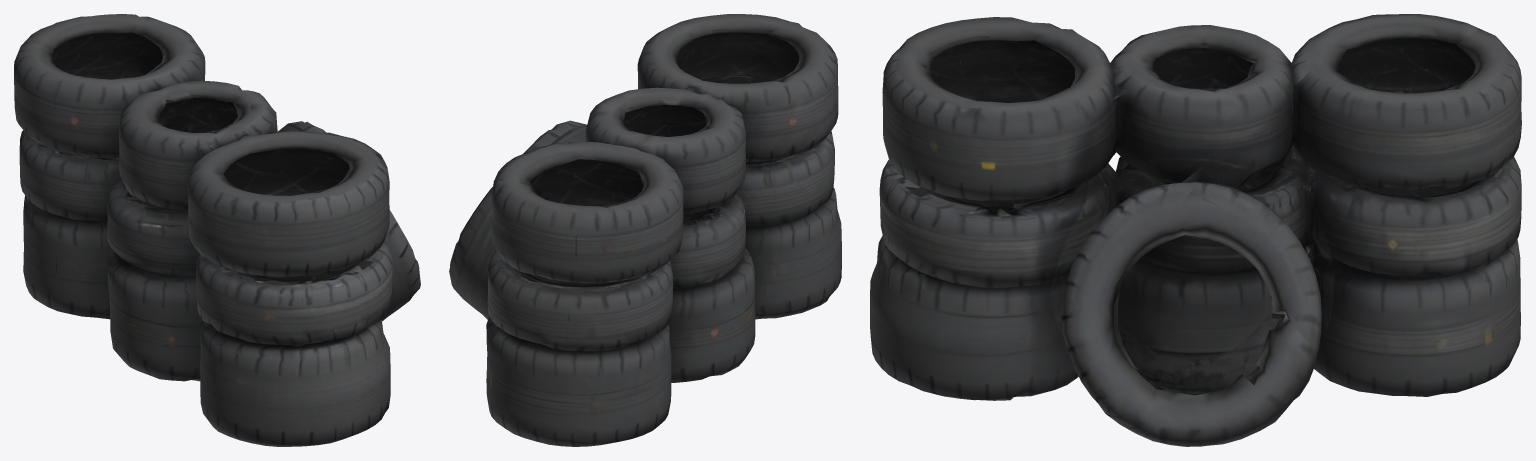
Rendered from 00f44d72-dfbd-4b9b-b1fc-d2059a2a3a5d.glb.
3 renders of one model, left to right at view 1: azimuth 30°, elevation 25°; view 2: azimuth 150°, elevation 25°; view 3: azimuth 270°, elevation 25°, orthographic. The views are drawn at different scales.
Bounding box in the file's own units: 1.24 × 1.02 × 2.
Materials: 1 (1 with a texture image).
